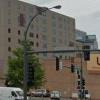Traffic light: (46, 47, 84, 83)
